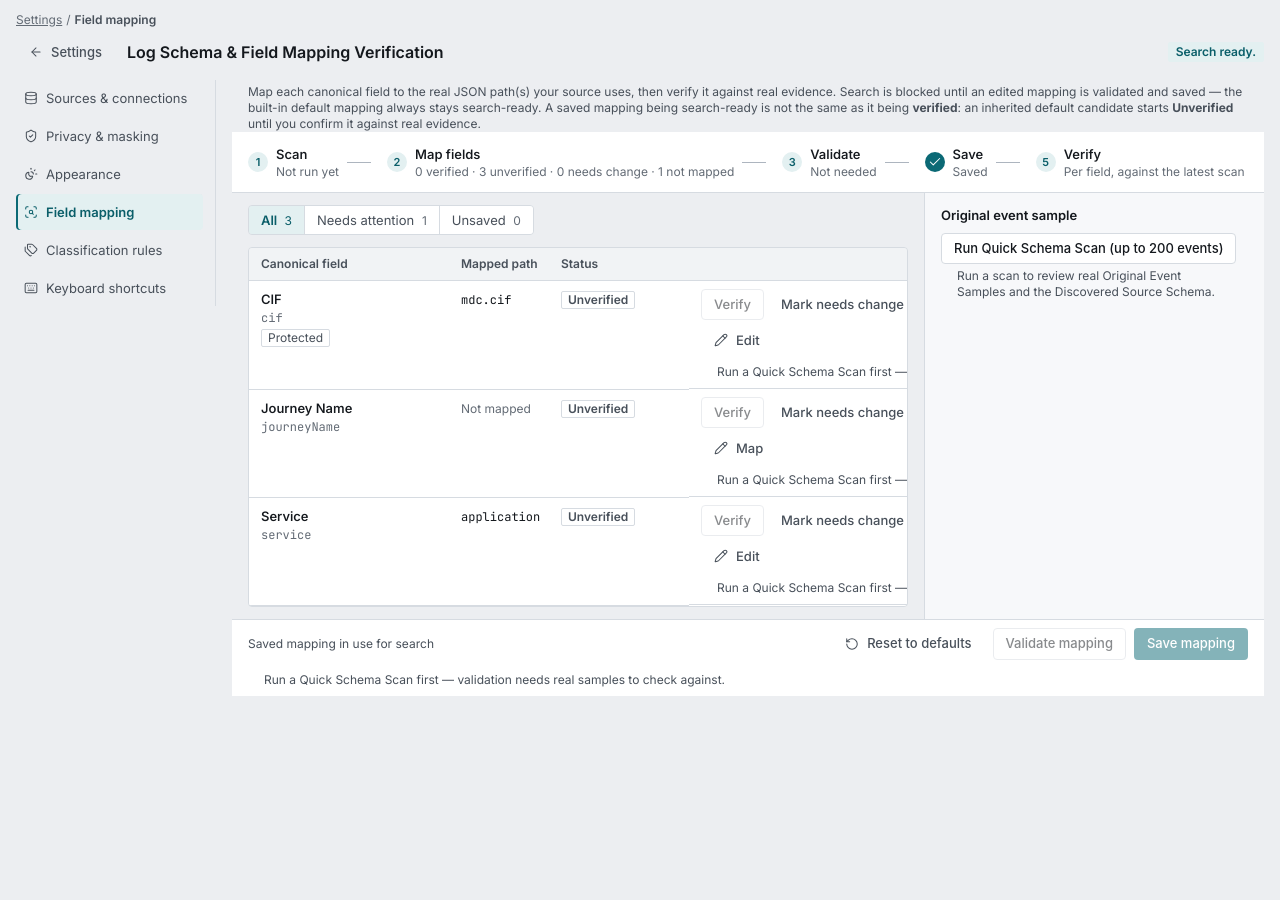
it: FieldMappingWorkspace › lists the Discovered Source Schema union from the scan, labeled as observed metadata, never "Original JSON"
Click the button "Run Quick Schema Scan (up to 200 events)": (1089, 248) [941,233,1236,264]
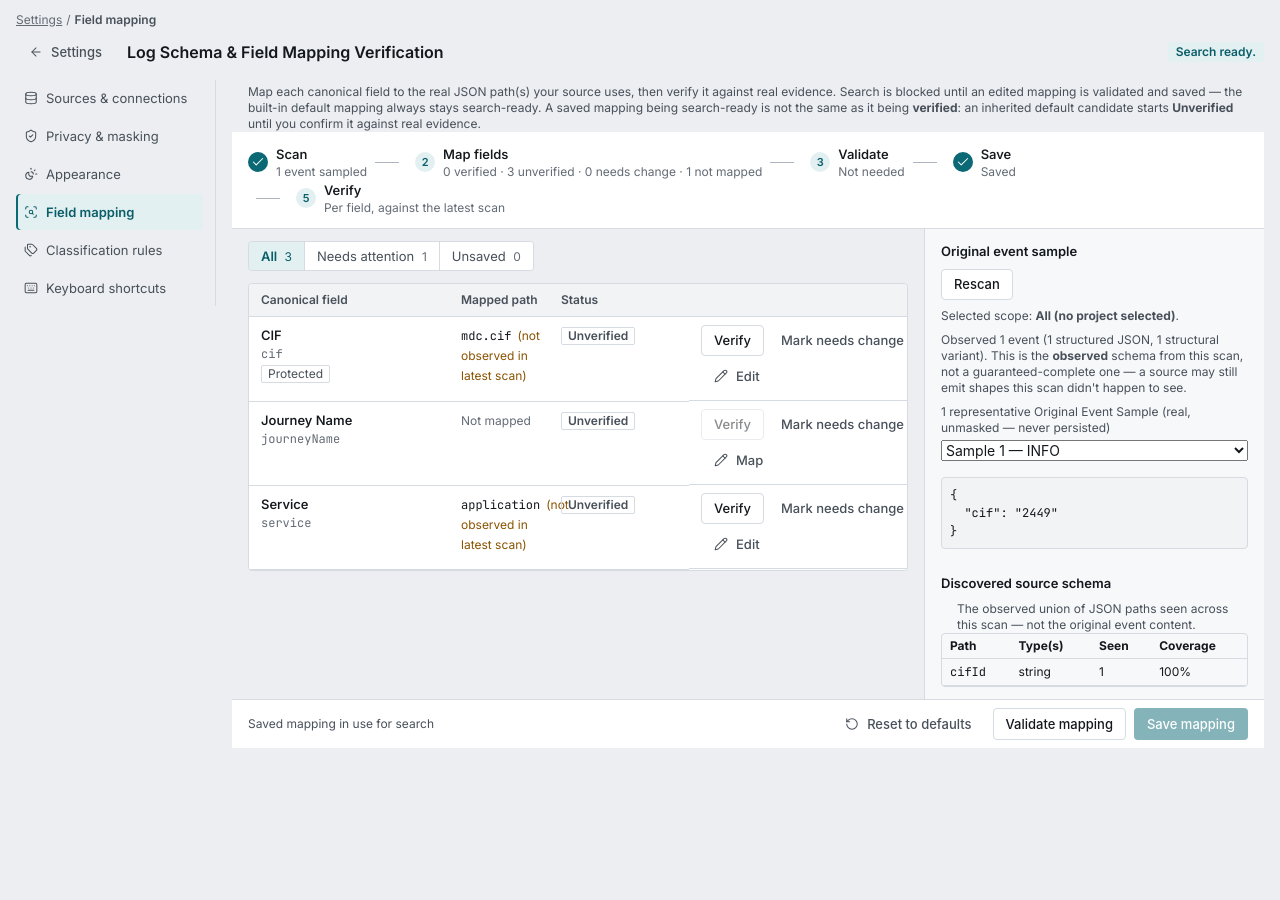
Expected: the heading "Discovered source schema" is shown, [941,575,1111,591]
Expected: the text "cifId" is shown, [950,664,986,680]
